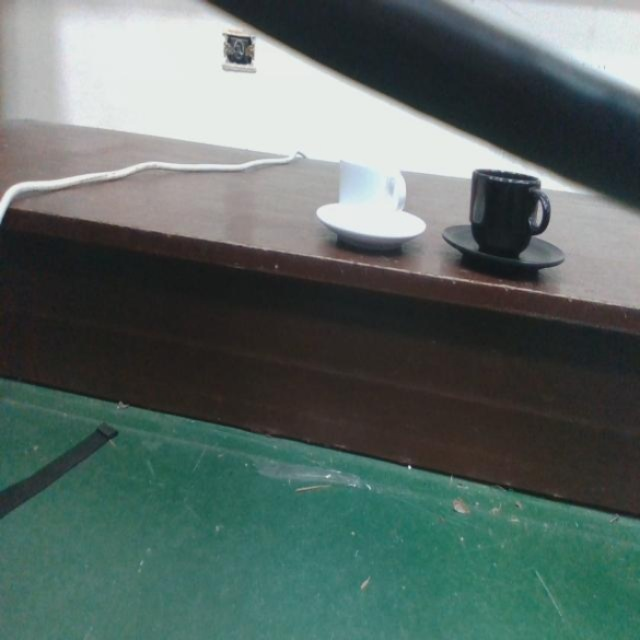black: (441, 166, 567, 278)
white: (314, 148, 428, 259)
